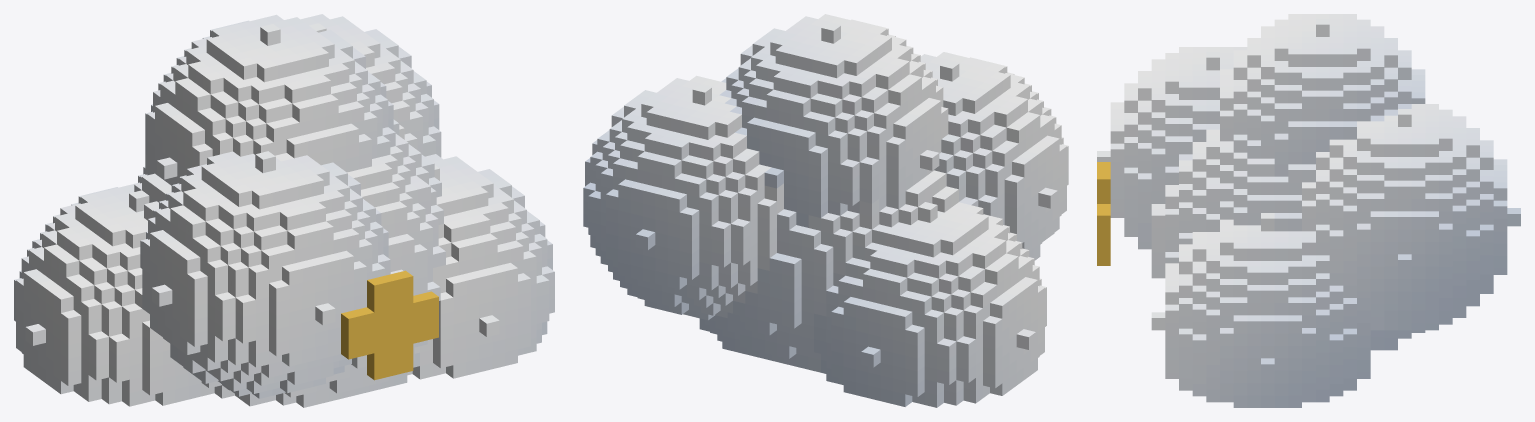
File: cloud_puff_hat.glb
3 views of the same model, side by side, from view 1: azimuth 30°, elevation 25°; view 2: azimuth 150°, elevation 25°; view 3: azimuth 270°, elevation 25° (orthographic). The views are drawn at different scales.
Parts seen in each view (by area): view 1: Cloud+ Puff; view 2: Cloud+ Puff; view 3: Cloud+ Puff.
Part boxes in pixels (bbox=[...]): Cloud+ Puff: bbox=[14, 14, 554, 407]; Cloud+ Puff: bbox=[583, 14, 1068, 407]; Cloud+ Puff: bbox=[1097, 14, 1520, 407].
Size of the model in its own units: 0.5625 by 0.3594 by 0.4844.
1 material, 1 textured.
